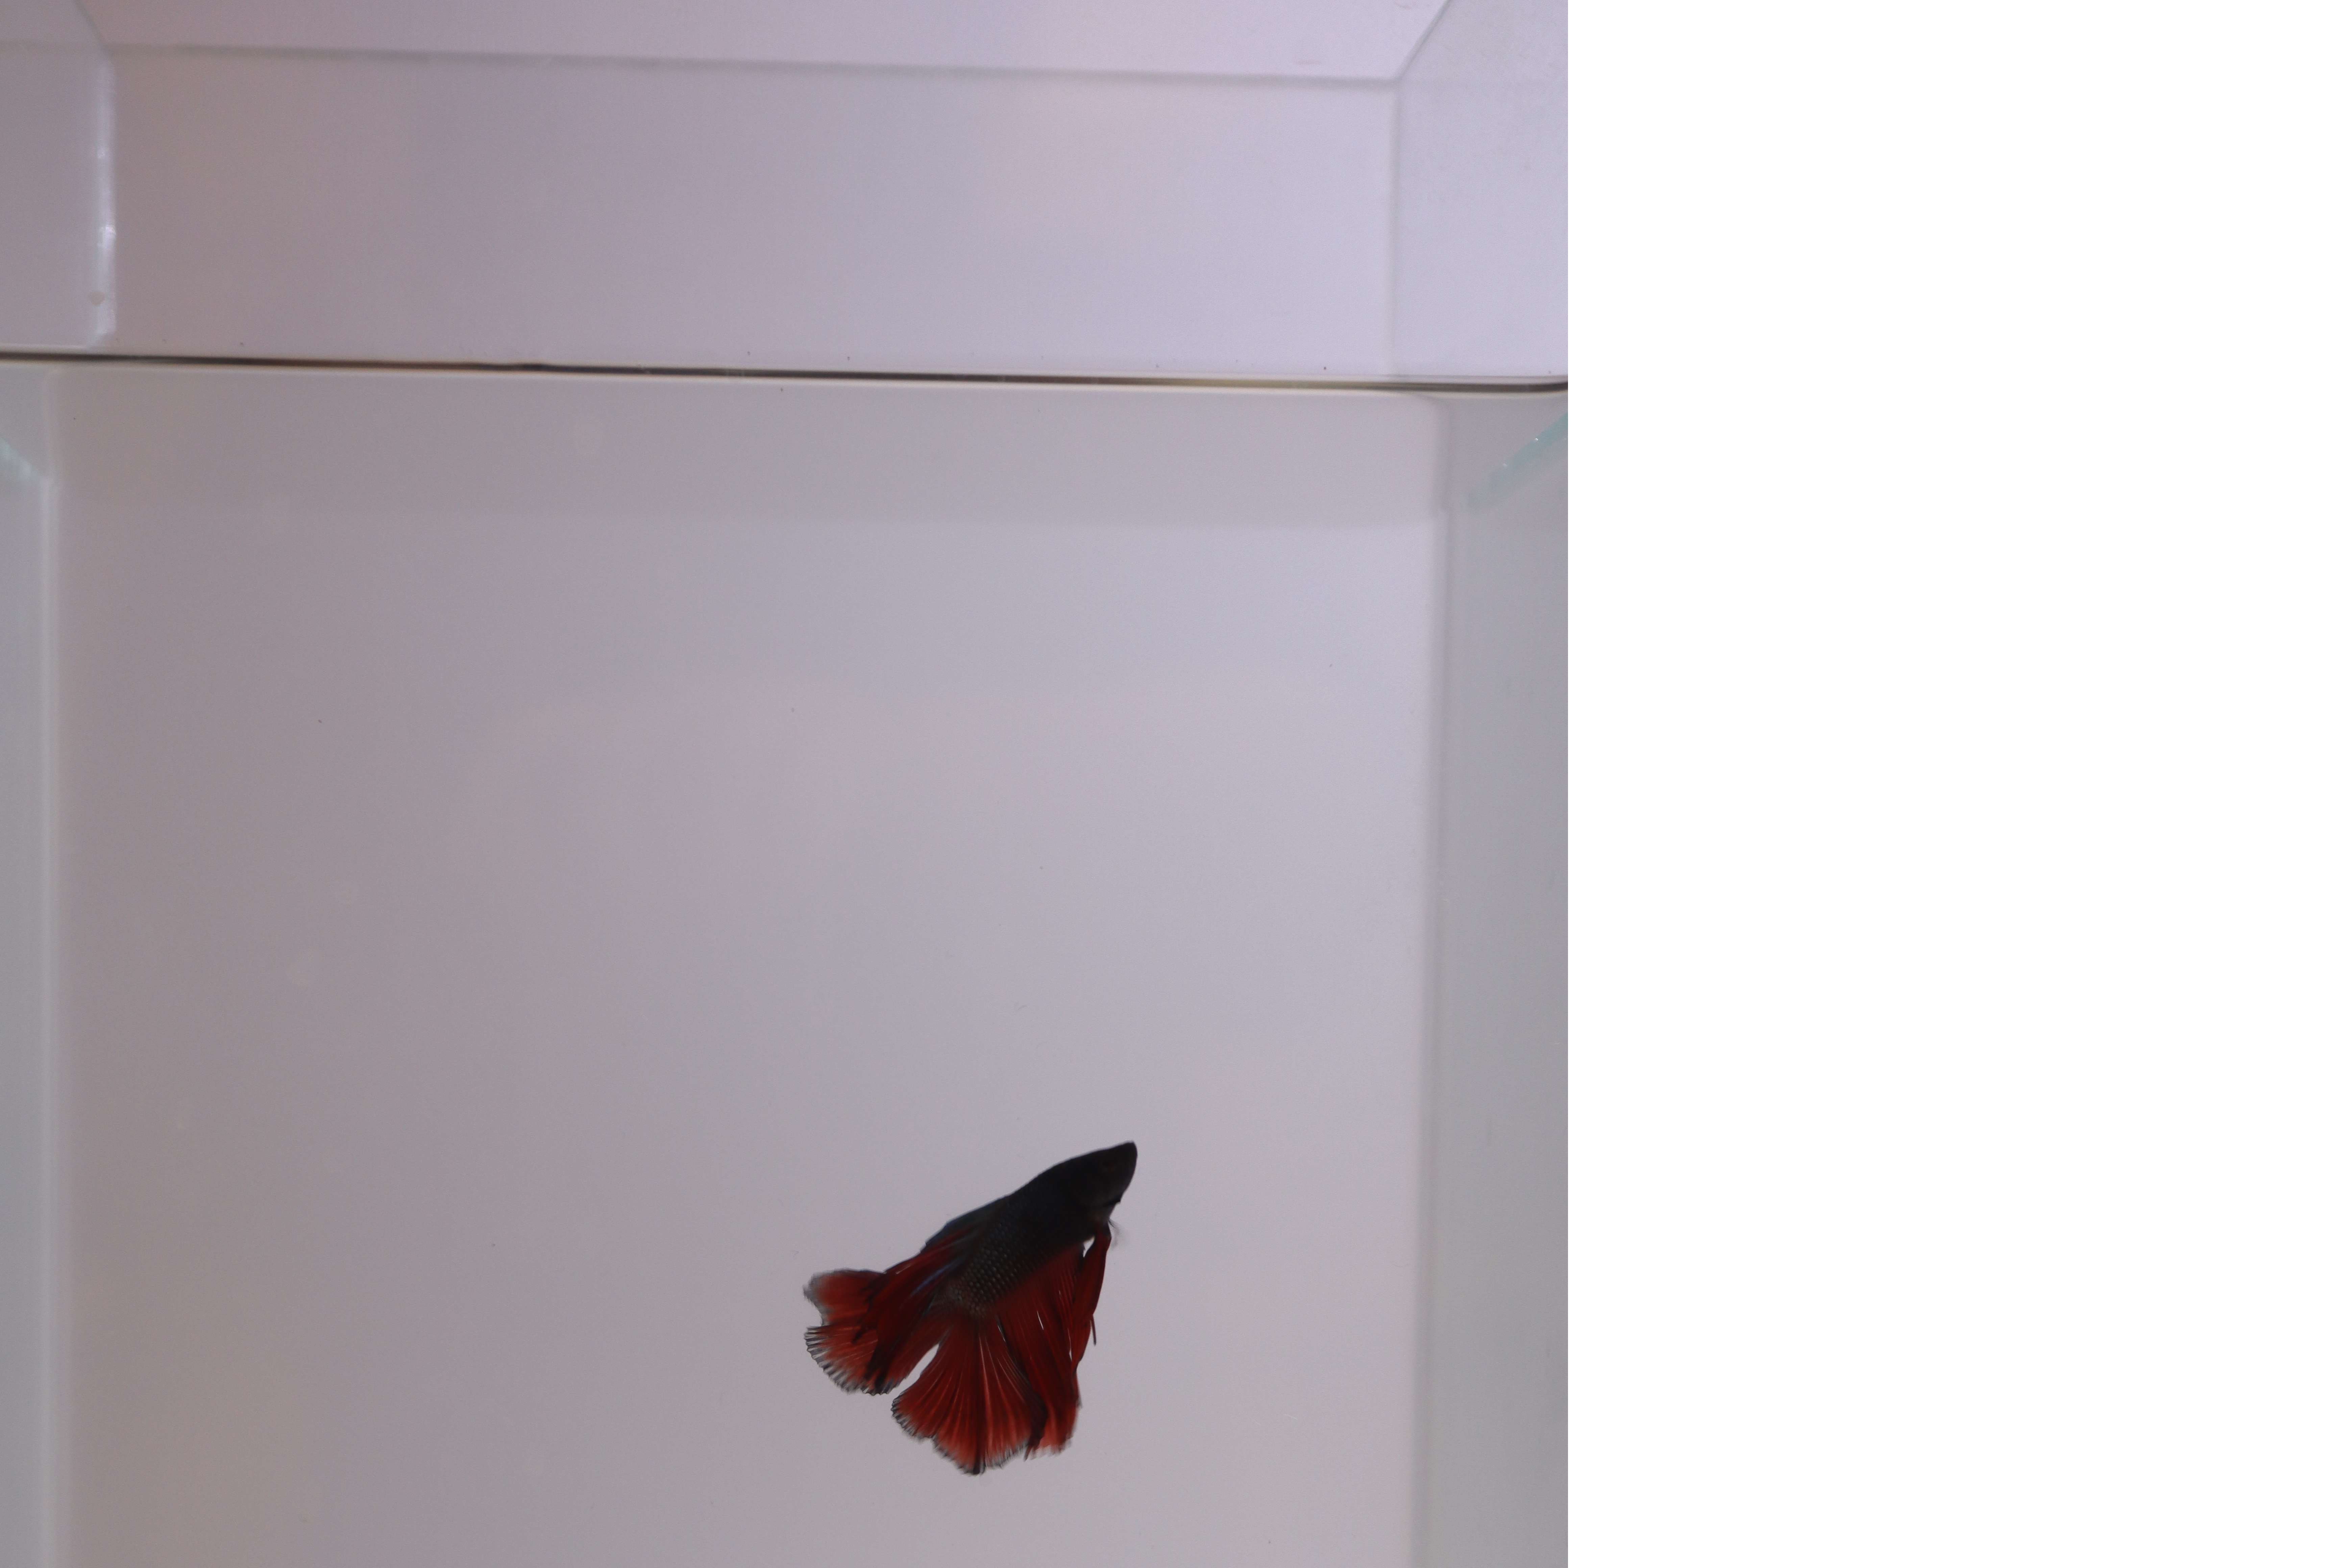fish: (784, 1138, 1160, 1494)
